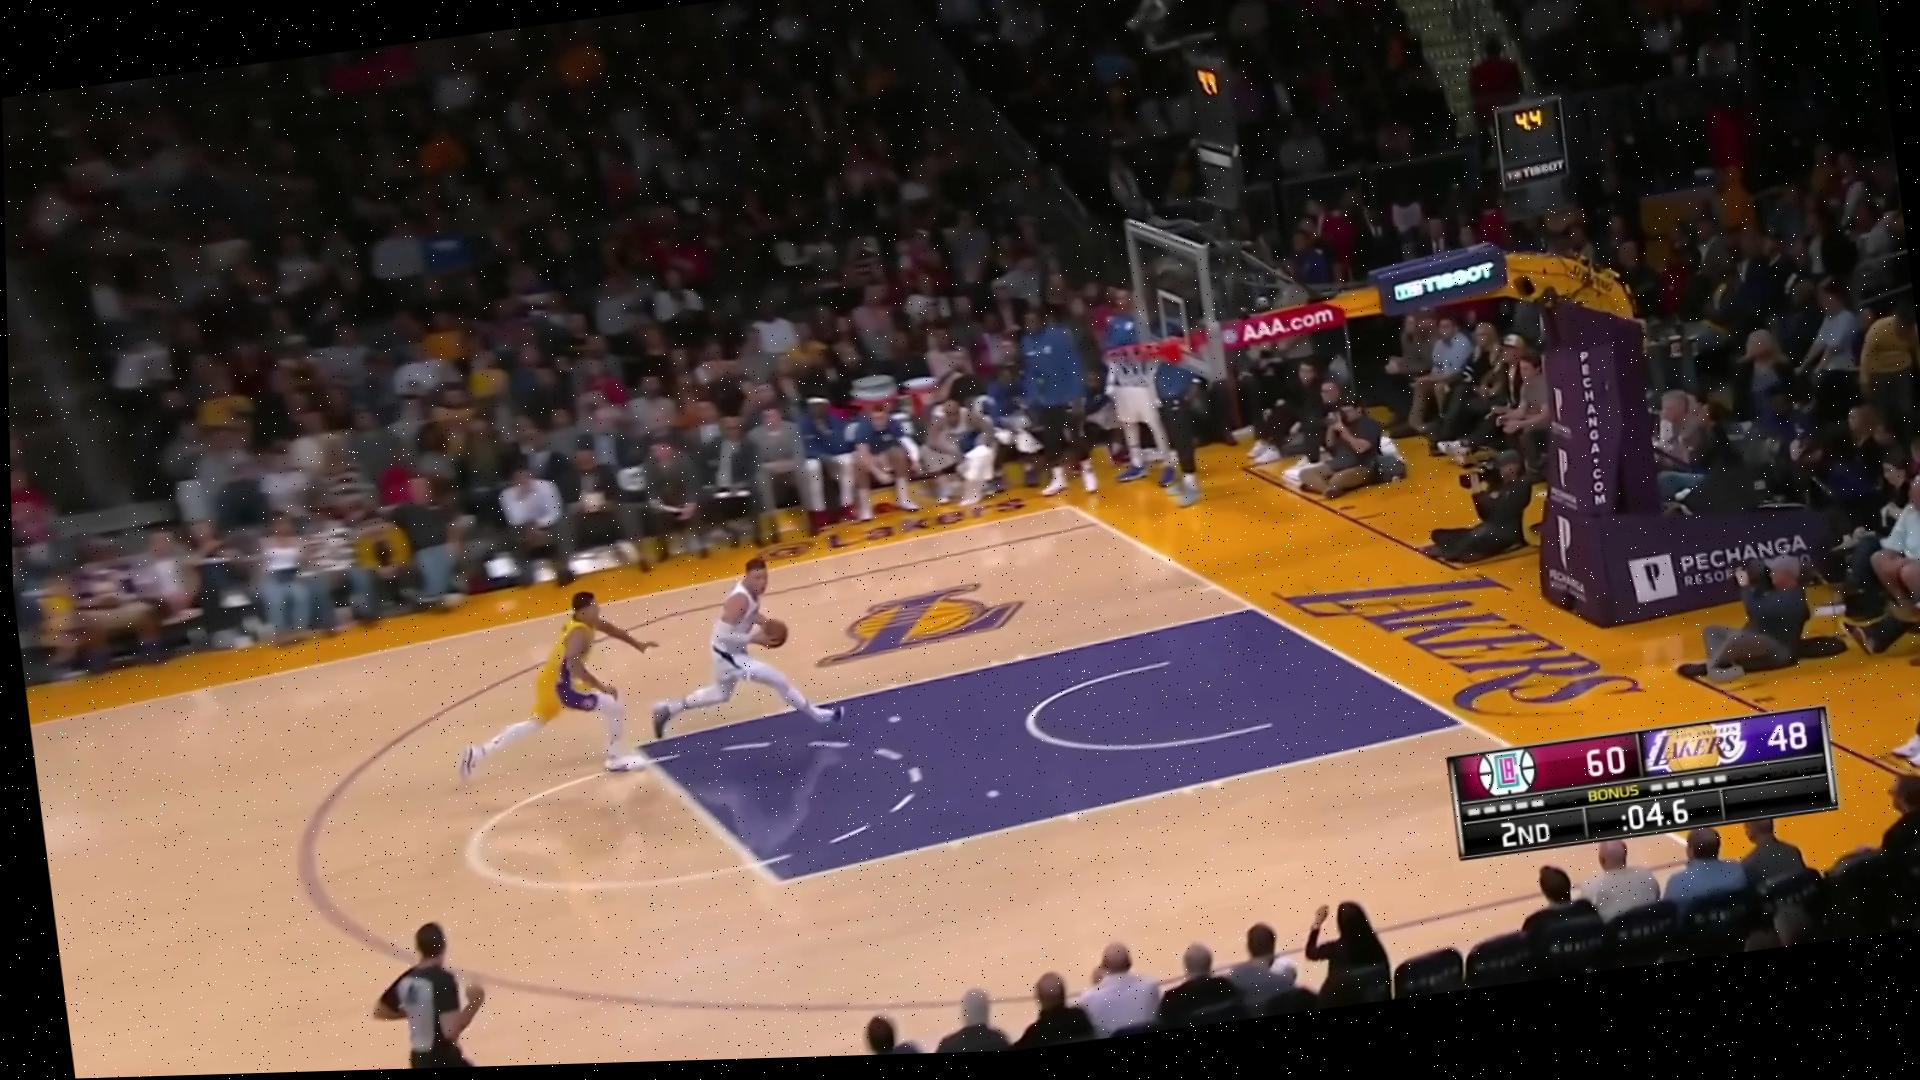no_foul: (439, 512, 841, 788)
